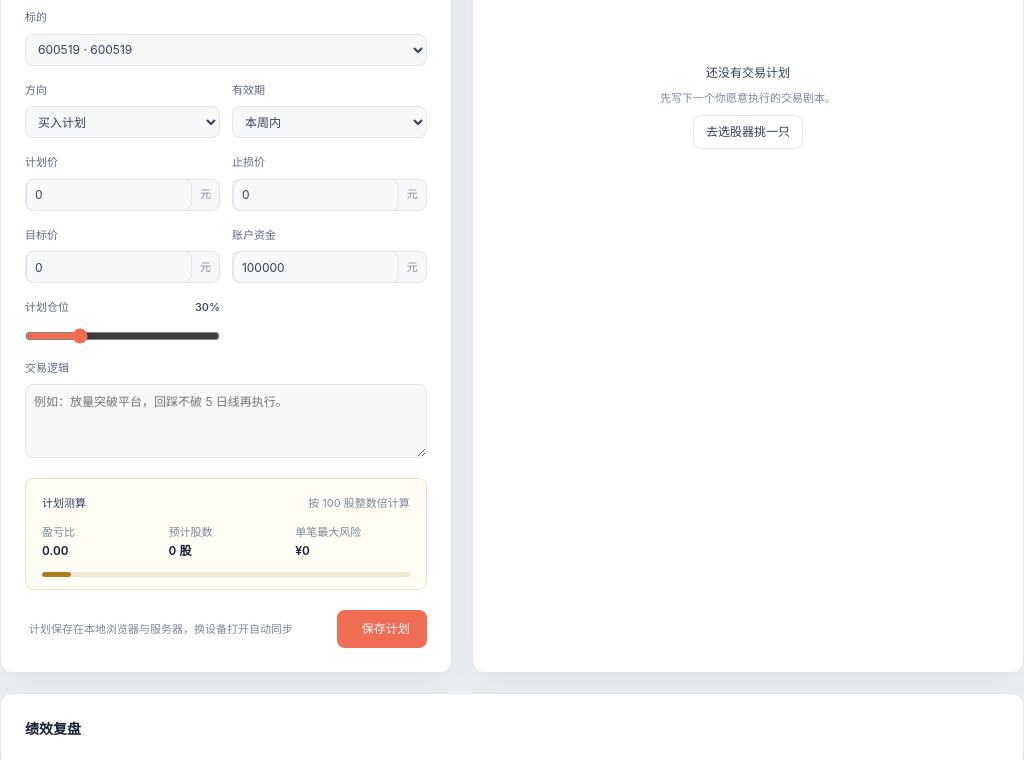
Test: ViewPlans › 展开绩效面板时首次拉取并渲染 testids
(page scrolled)
Click the button with test id "review-toggle" at coordinates (53, 728), box [25, 710, 999, 747]
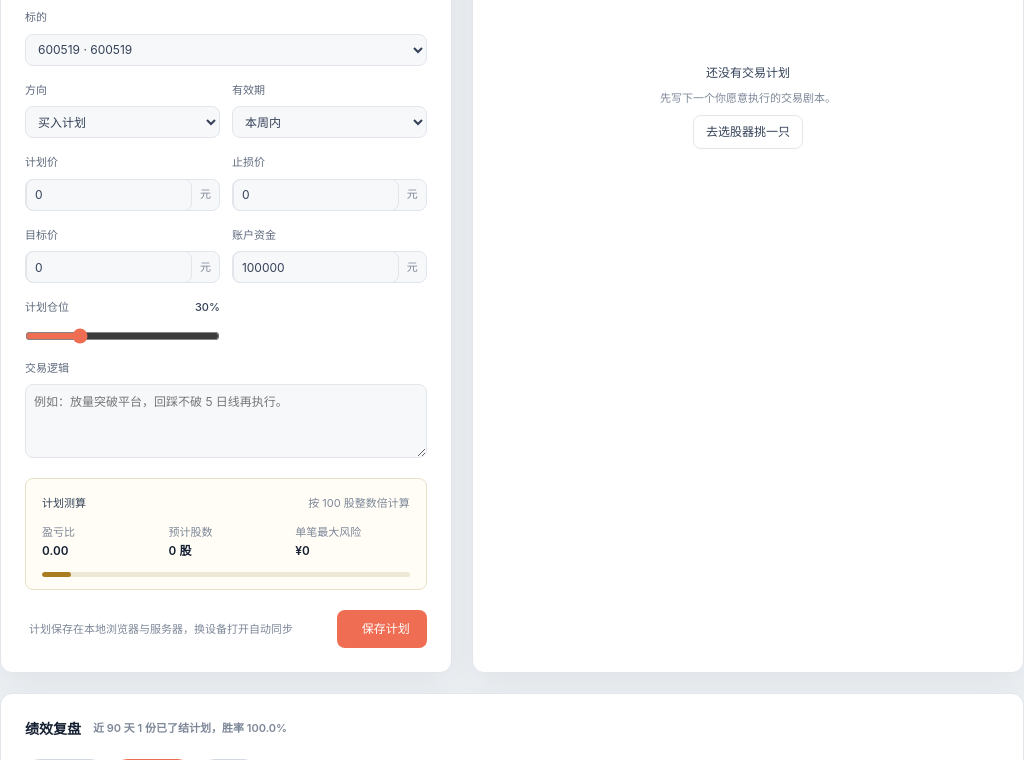
Expected: the button with test id "review-toggle" shows "近 90 天", [25, 710, 999, 747]
